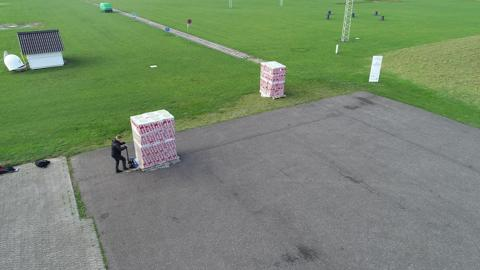RockwoolPallet: (131, 112, 179, 163)
